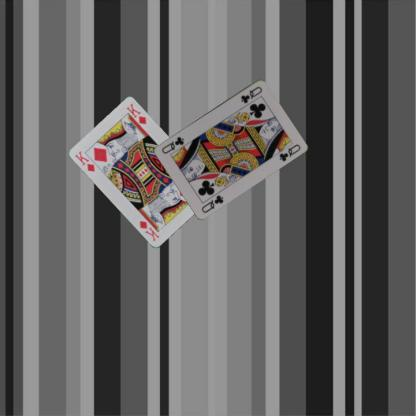Kd: (72, 148, 97, 173)
Qc: (199, 192, 225, 214), (238, 84, 264, 104)
